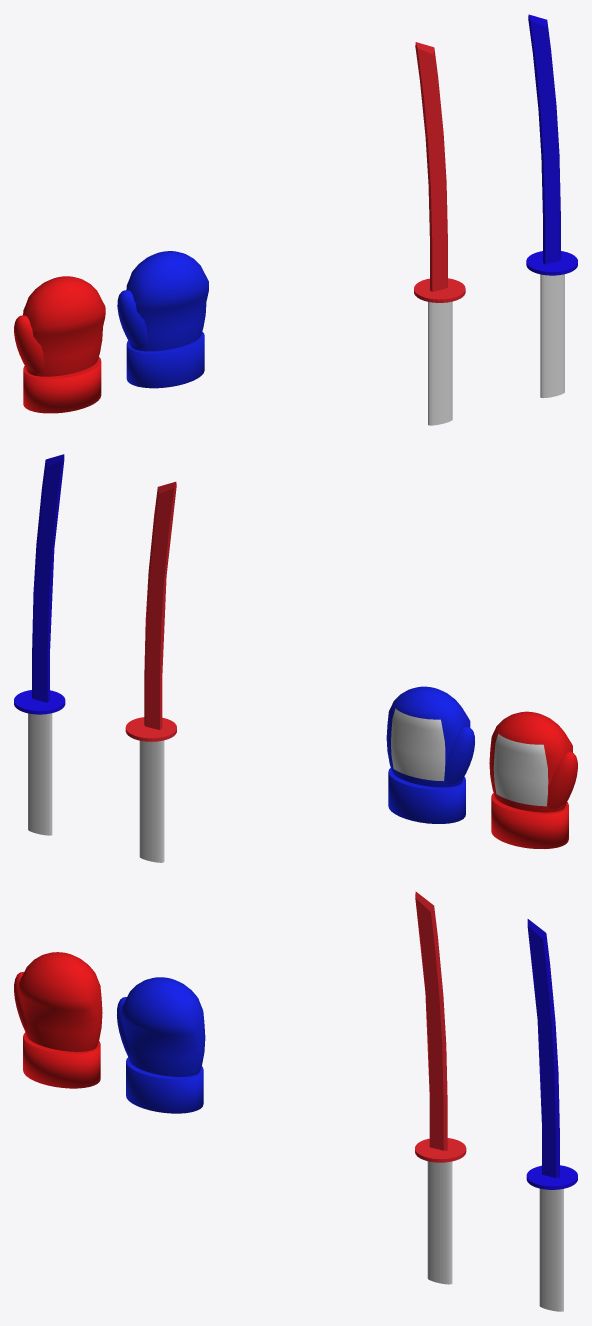
Rendered from BlueSword.fbx.
The picture shows the model from 3 angles, top to bottom: view 1: azimuth 30°, elevation 25°; view 2: azimuth 150°, elevation 25°; view 3: azimuth 330°, elevation 25°; orthographic projection.
Visible parts, largest first — view 1: Blue Glove, Red Glove, Red Sword, Blue Sword; view 2: Blue Glove, Red Glove, Red Sword, Blue Sword; view 3: Blue Glove, Red Glove, Red Sword, Blue Sword.
Boxes of the visible parts, x1=… form: Blue Glove: x1=117, y1=251, x2=208, y2=388; Red Glove: x1=14, y1=276, x2=105, y2=413; Red Sword: x1=414, y1=42, x2=465, y2=425; Blue Sword: x1=526, y1=14, x2=577, y2=398; Blue Glove: x1=386, y1=686, x2=474, y2=823; Red Glove: x1=489, y1=711, x2=577, y2=848; Red Sword: x1=125, y1=481, x2=176, y2=862; Blue Sword: x1=14, y1=454, x2=65, y2=835; Blue Glove: x1=117, y1=977, x2=205, y2=1113; Red Glove: x1=14, y1=952, x2=102, y2=1088; Red Sword: x1=415, y1=891, x2=466, y2=1284; Blue Sword: x1=526, y1=919, x2=577, y2=1311.
Bounding box in the file's own units: 1761 × 1159 × 175.
